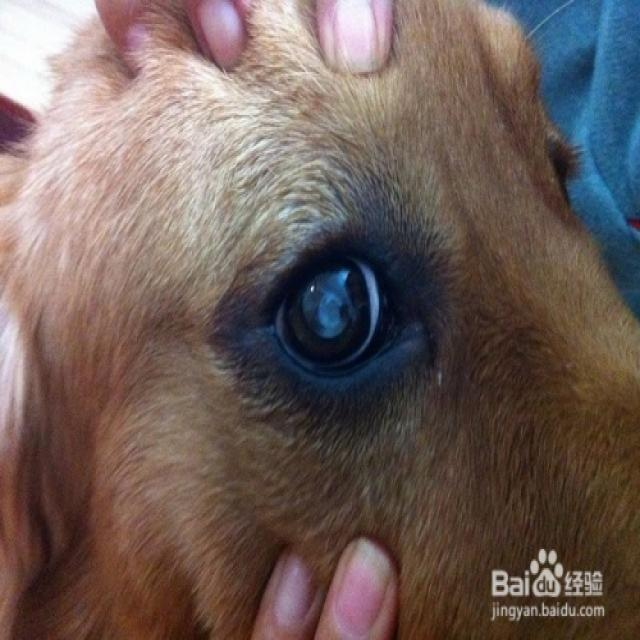eye: (263, 232, 415, 392)
